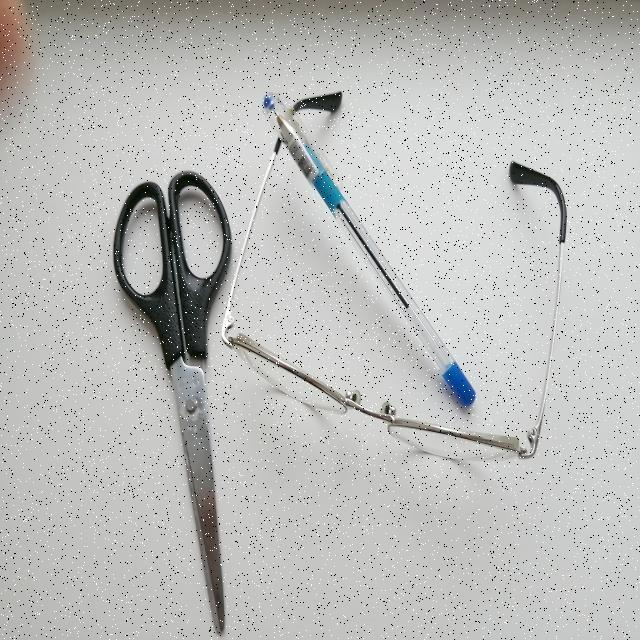scissors: (95, 153, 242, 640)
